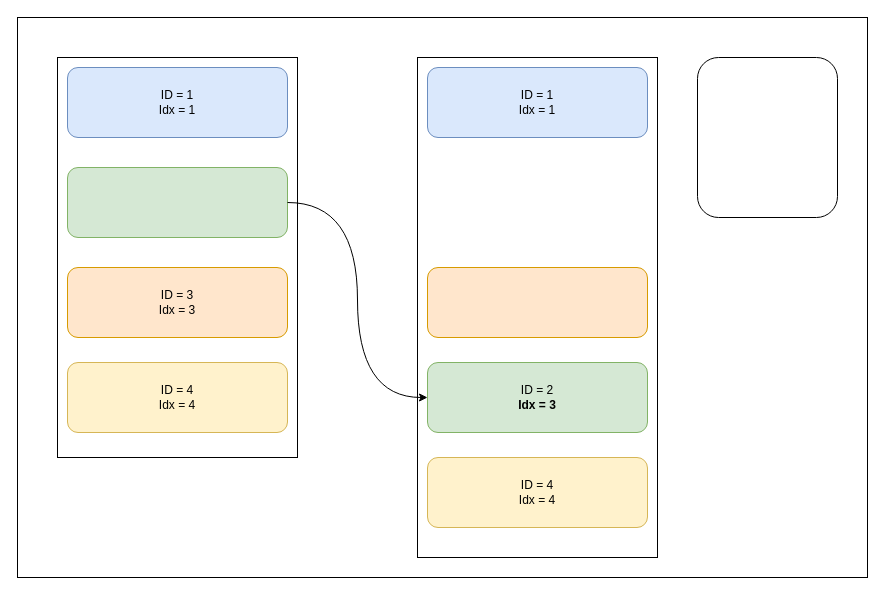
Image size: 885x595. Some labels were removed from this diagram. The shapes that lost their labels are listed below. From the top down, each one's centre as x and y in pixels, then its label:
pixel 767 137: { "cardID": 2, " aboveOfIdx ": 4 } // move card id 2 to above index 4
pixel 177 202: ID = 2 Idx = 2
pixel 537 302: ID = 3 Idx = 2
